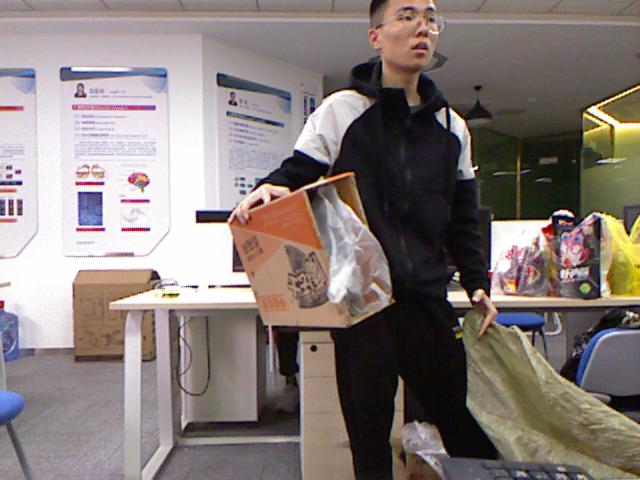cardboard paper: (229, 171, 391, 326), (73, 270, 158, 359)
